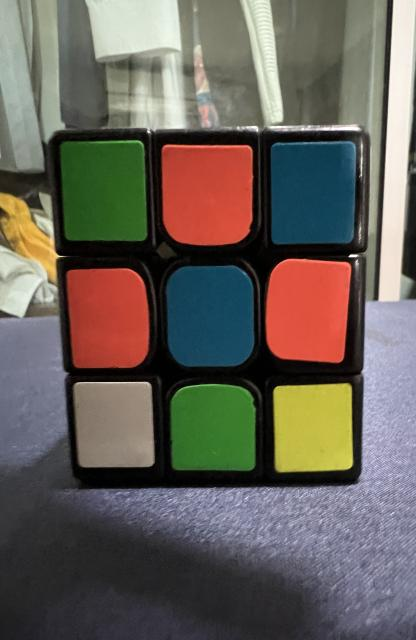Blue: (167, 265, 255, 366), (271, 141, 356, 245)
Green: (60, 140, 147, 241), (170, 384, 256, 471)
Orange: (161, 145, 254, 245), (265, 259, 351, 364), (66, 269, 150, 369)
White: (73, 381, 155, 468)
Yellow: (273, 382, 353, 472)
